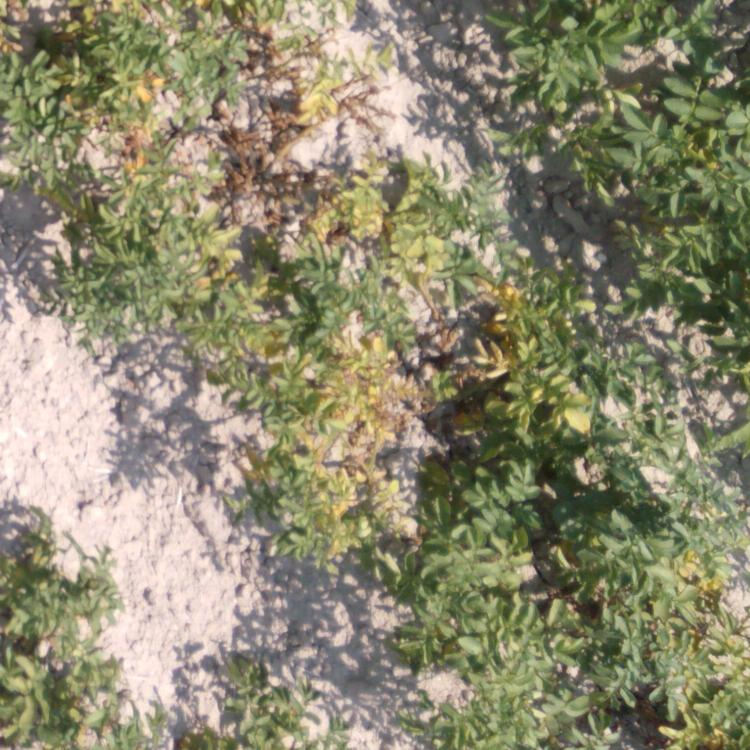healthy: (408, 1, 738, 98), (596, 90, 743, 303), (408, 586, 580, 750), (108, 646, 333, 750), (412, 466, 586, 591), (2, 529, 101, 744), (474, 102, 578, 171)
stressed: (1, 118, 258, 307), (197, 313, 397, 555), (262, 123, 523, 306), (1, 1, 382, 123), (591, 465, 750, 750), (407, 300, 665, 464), (677, 308, 750, 449)
